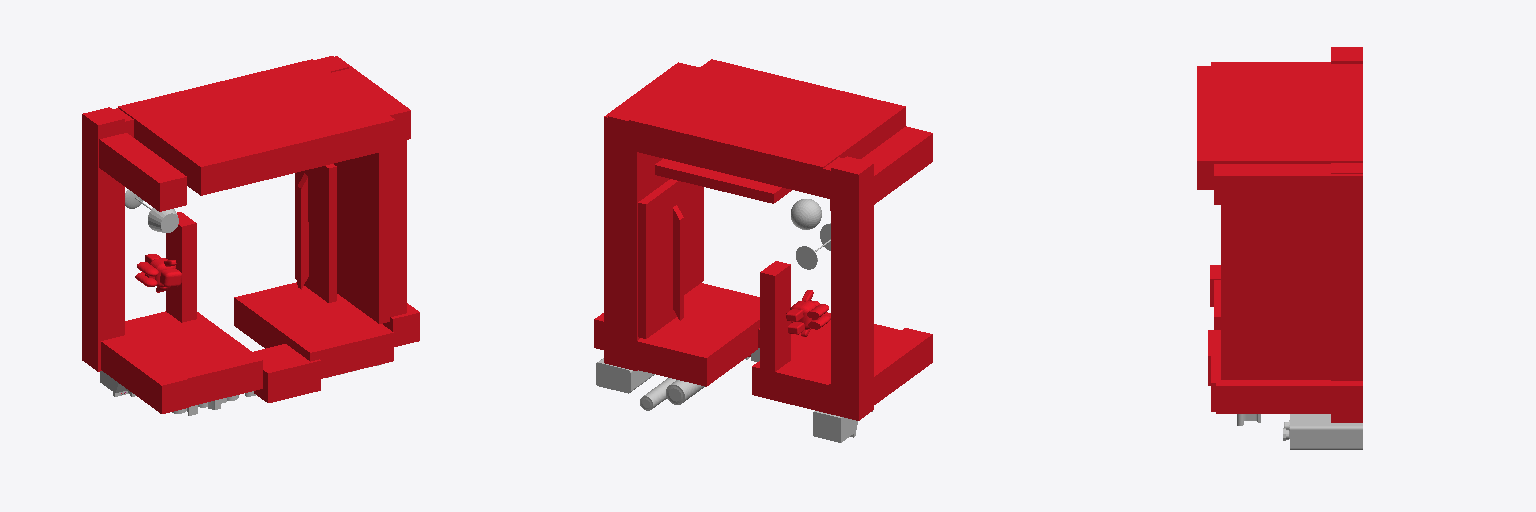
The model's file is depanneur.obj.
3 views of the same model, side by side, from view 1: azimuth 30°, elevation 25°; view 2: azimuth 150°, elevation 25°; view 3: azimuth 270°, elevation 25° (orthographic).
Parts seen in each view (by area): view 1: obj_0; view 2: obj_0; view 3: obj_0.
Boxes of the visible parts, x1=… form: obj_0: x1=82, y1=56, x2=419, y2=415; obj_0: x1=594, y1=59, x2=932, y2=442; obj_0: x1=1197, y1=47, x2=1362, y2=449.
Size of the model in its own units: 193 by 201 by 105.